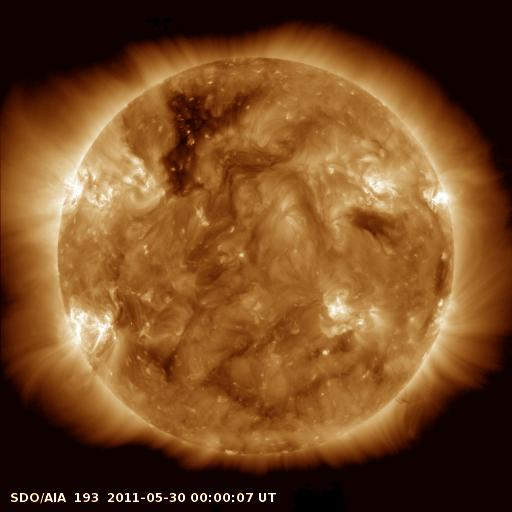coronal_hole: (157, 85, 269, 194), (348, 206, 392, 236)
